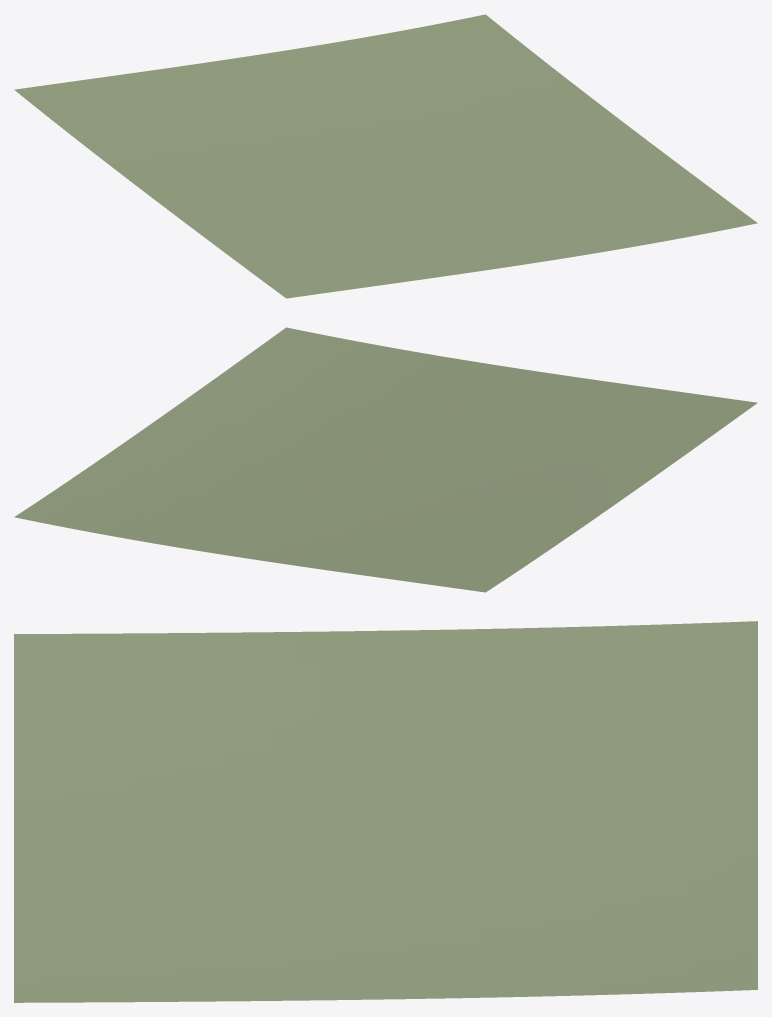
The model's file is valley-12-4.glb.
The picture shows the model from 3 angles, top to bottom: view 1: azimuth 30°, elevation 25°; view 2: azimuth 150°, elevation 25°; view 3: azimuth 270°, elevation 25°; orthographic projection. The views are drawn at different scales.
Parts seen in each view (by area): view 1: valley-12-4; view 2: valley-12-4; view 3: valley-12-4.
Part boxes in pixels (<box>): valley-12-4: <box>14,14,757,298</box>; valley-12-4: <box>14,327,757,592</box>; valley-12-4: <box>14,621,757,1002</box>.
Bounding box in the file's own units: 256 × 25.57 × 256.
